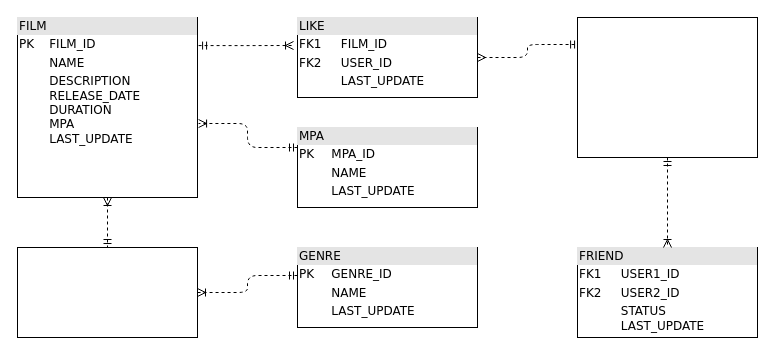
Some shapes in this 775 by 355 pixel diagram are drawn without their labels. The box of each missing label's shape, as (x1, y1, x2, y2) in pixels:
FILM_GENRE FK1 FILM_ID FK2 GENRE_ID LAST_UPDATE: (16, 246, 198, 338)
USER PK USER_ID EMAIL LOGIN NAME BIRTHDAY LAST_UPDATE: (576, 16, 758, 158)
